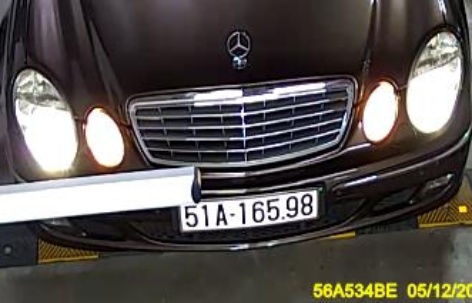plate: (176, 190, 323, 235)
